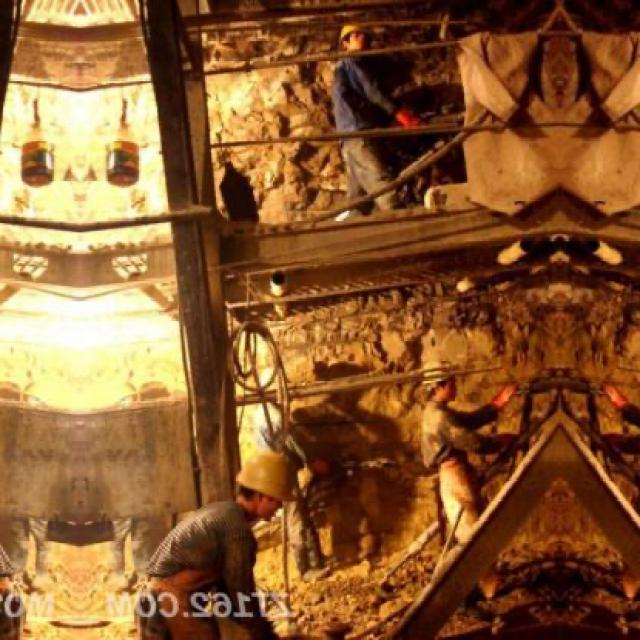con casco: (220, 424, 356, 522)
